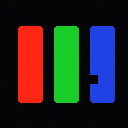1 square: (89, 75, 97, 83)
